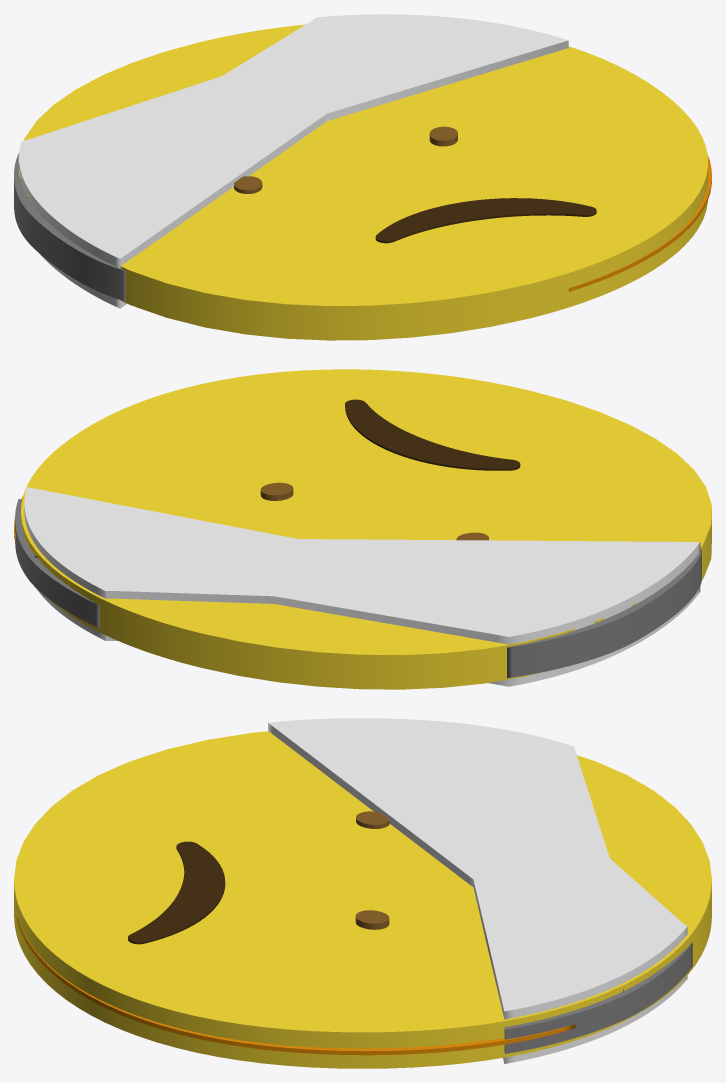
Rendered from emoji_u1f915.glb.
3 views of the same model, one above another, from view 1: azimuth 30°, elevation 25°; view 2: azimuth 150°, elevation 25°; view 3: azimuth 270°, elevation 25° (orthographic). The views are drawn at different scales.
Parts seen in each view (by area): view 1: emoji_u1f915; view 2: emoji_u1f915; view 3: emoji_u1f915.
Boxes of the visible parts, bbox=[...] form: emoji_u1f915: bbox=[14, 14, 711, 340]; emoji_u1f915: bbox=[14, 369, 711, 689]; emoji_u1f915: bbox=[14, 718, 711, 1068].
Bounding box in the file's own units: 0.0331 × 0.0026 × 0.0313.
